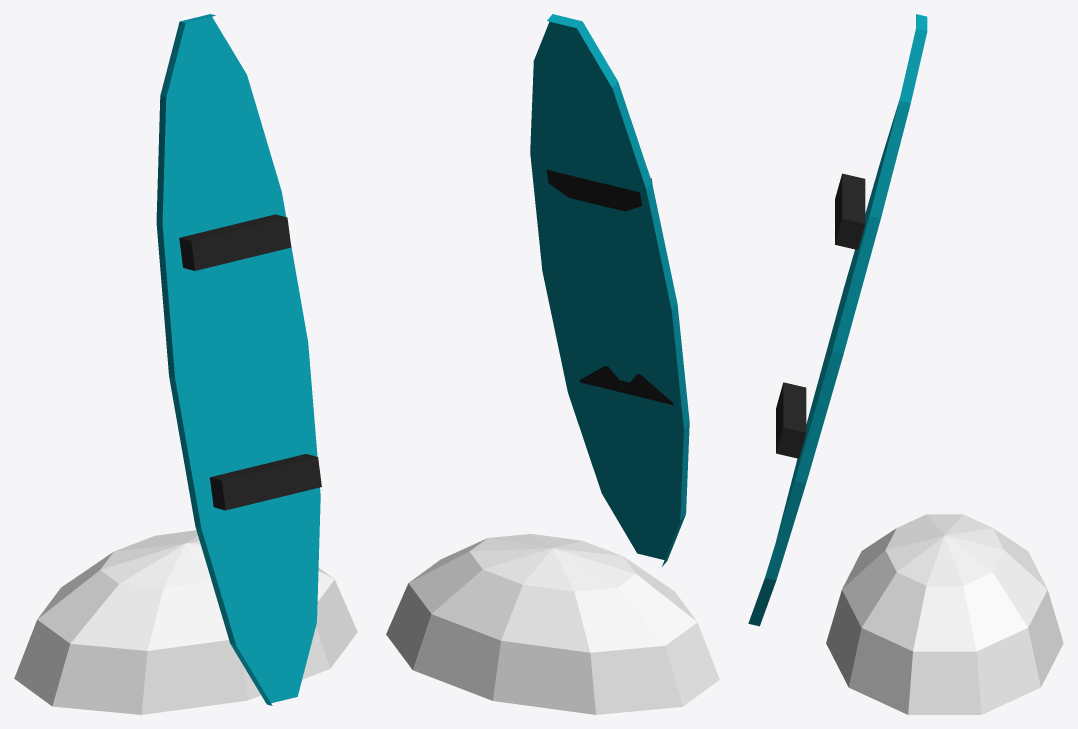
Rendered from snowboard.glb.
3 renders of one model, left to right at view 1: azimuth 30°, elevation 25°; view 2: azimuth 150°, elevation 25°; view 3: azimuth 270°, elevation 25°, orthographic. The views are drawn at different scales.
Parts seen in each view (by area): view 1: snowboard; view 2: snowboard; view 3: snowboard.
Boxes of the visible parts, bbox=[...] form: snowboard: bbox=[14, 14, 357, 714]; snowboard: bbox=[386, 14, 719, 714]; snowboard: bbox=[748, 14, 1063, 714].
Size of the model in its own units: 0.5707 by 1.16 by 0.5308.
